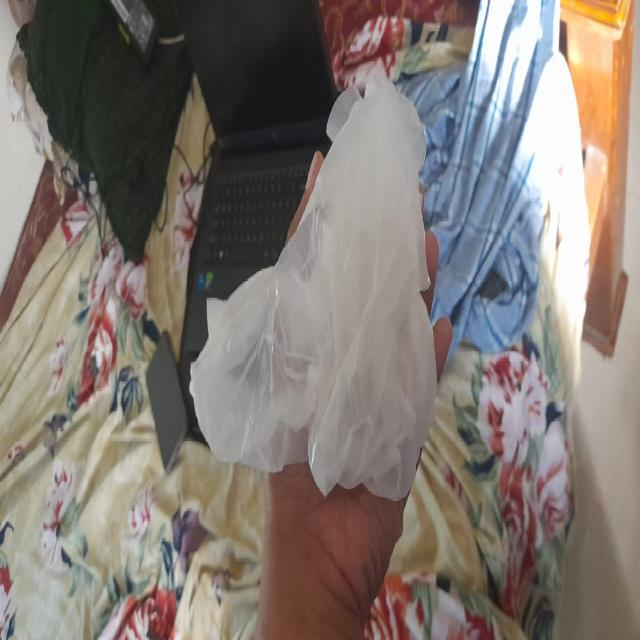Plastic - Recyclable: (187, 70, 439, 502)
